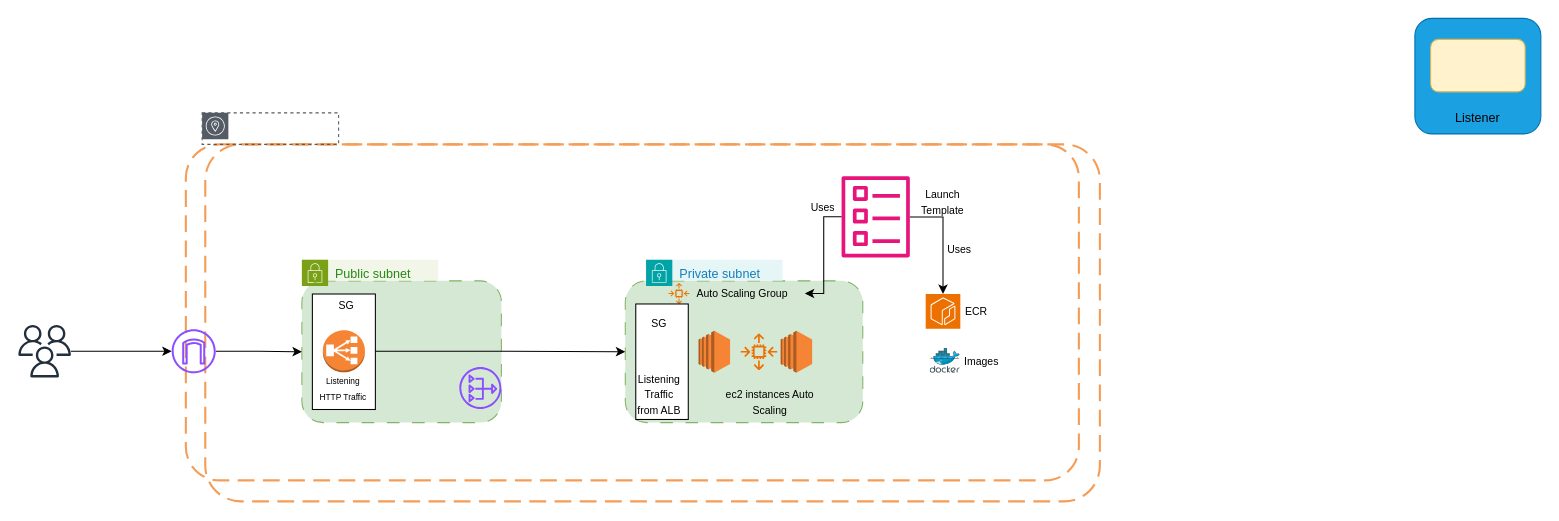
The diagram is 1559 pixels wide and 521 high, and some of its shapes have lost their labels. The centre of each missing label's shape, as x and y in pixels:
2 Availability zone: (270,128)
Rule: (1477,65)
